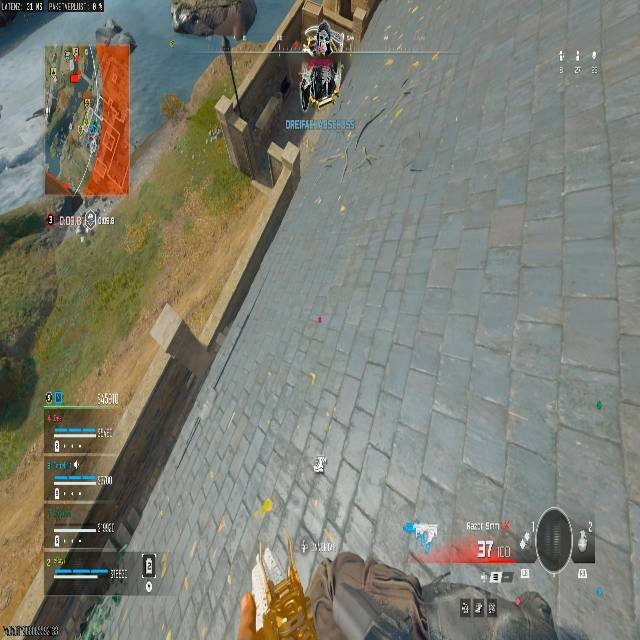head: (332, 550, 366, 584)
player: (306, 550, 429, 639)
